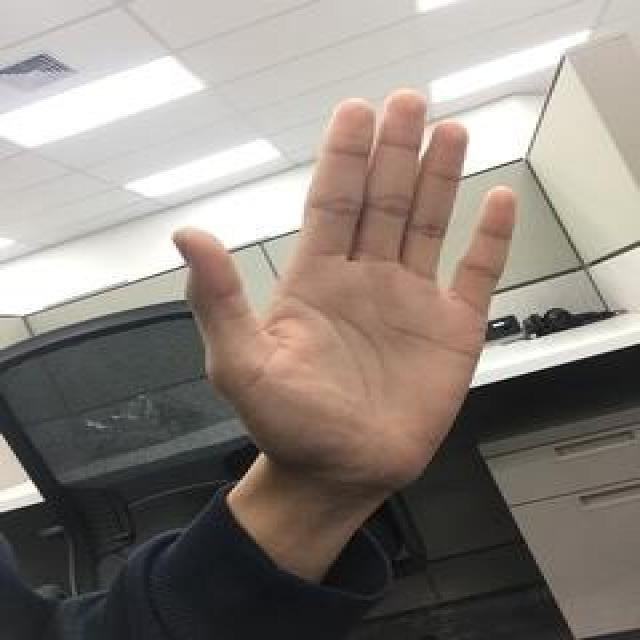hand: (176, 82, 520, 498)
